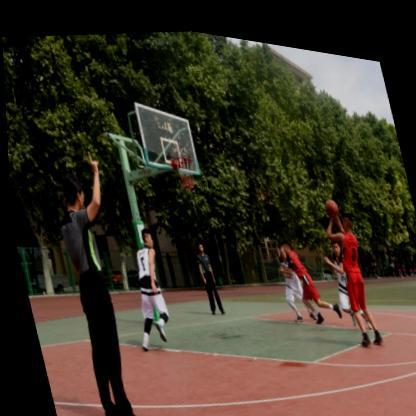basketball: (322, 186, 339, 208)
rim: (171, 148, 196, 184)
